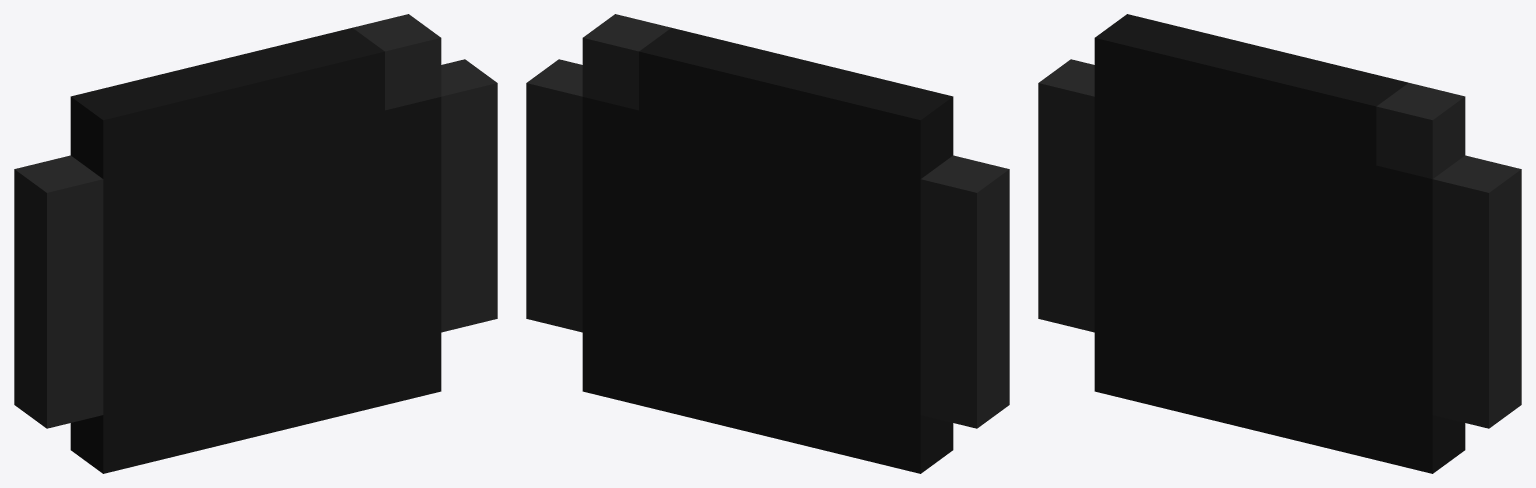
Rendered from talaspa7.obj.
The picture shows the model from 3 angles, left to right: view 1: azimuth 30°, elevation 25°; view 2: azimuth 150°, elevation 25°; view 3: azimuth 330°, elevation 25°; orthographic projection.
Parts seen in each view (by area): view 1: taladro7; view 2: taladro7; view 3: taladro7.
Part boxes in pixels (x1,y1,x2,y2): taladro7: (14,14,497,473); taladro7: (526,14,1009,473); taladro7: (1038,14,1521,473).
Size of the model in its own units: 0.8 by 0.6 by 0.1.
